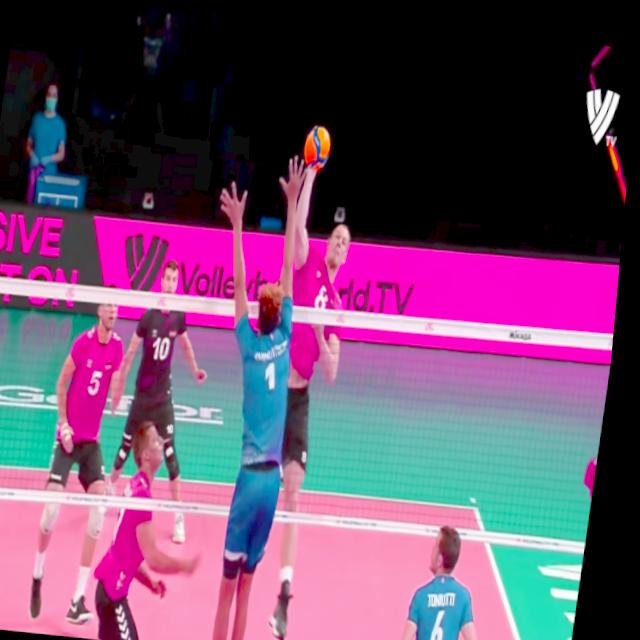player: (166, 141, 328, 640), (245, 143, 372, 640), (106, 257, 230, 550), (36, 277, 140, 622), (98, 410, 222, 640), (401, 514, 509, 640)
